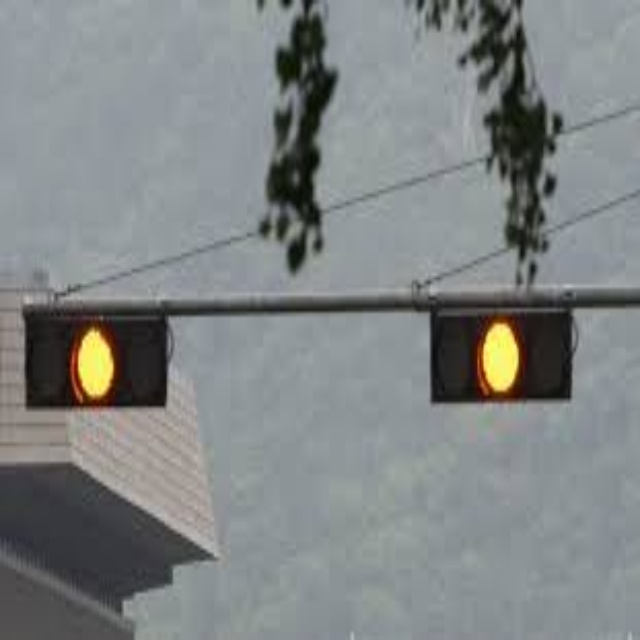yellow_light: (66, 324, 117, 403), (479, 317, 521, 396)
